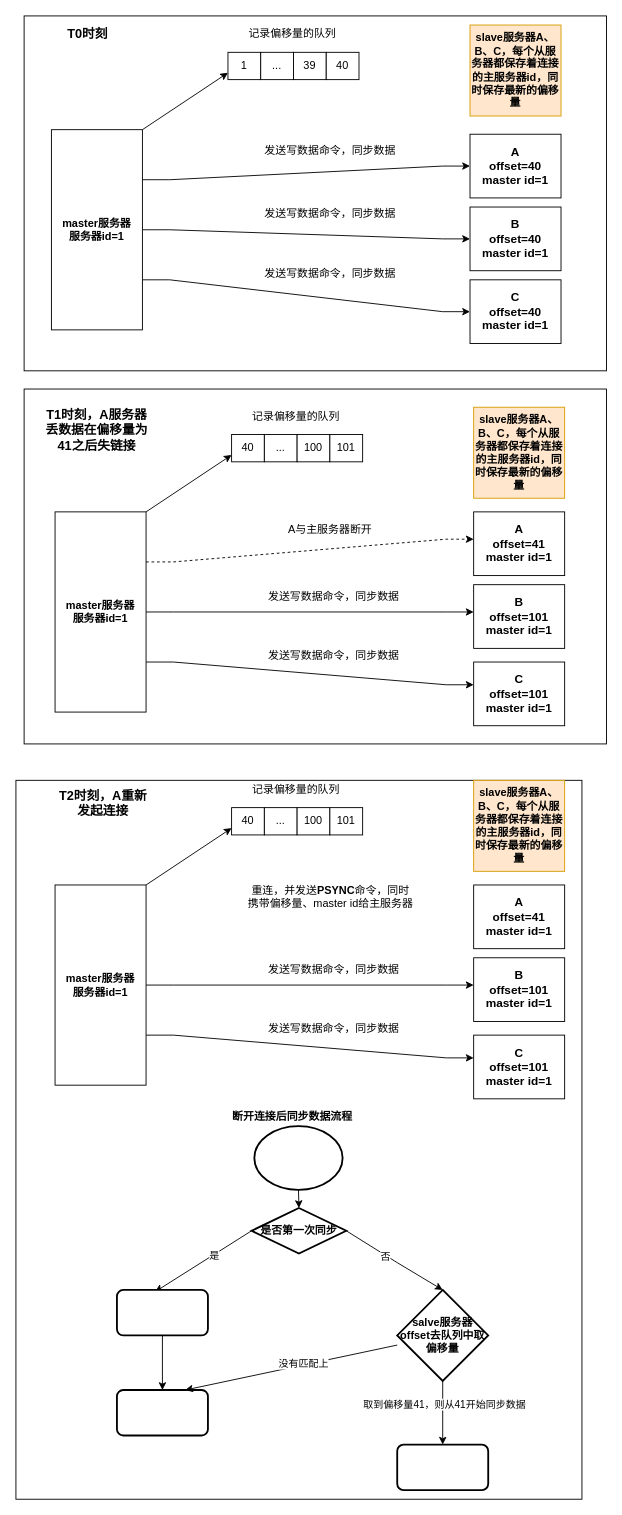
This 622x1515 diagram has some shape labels left out. Here are the shapes that lost their labels. From the top down, the box of each, then its label:
(253, 1125, 343, 1190): 接受slaveof命令
(116, 1289, 208, 1336): 向master服务器发送 PSYNC 指令
(116, 1389, 208, 1436): 执行全量同步
(396, 1443, 489, 1491): 执行部分同步
